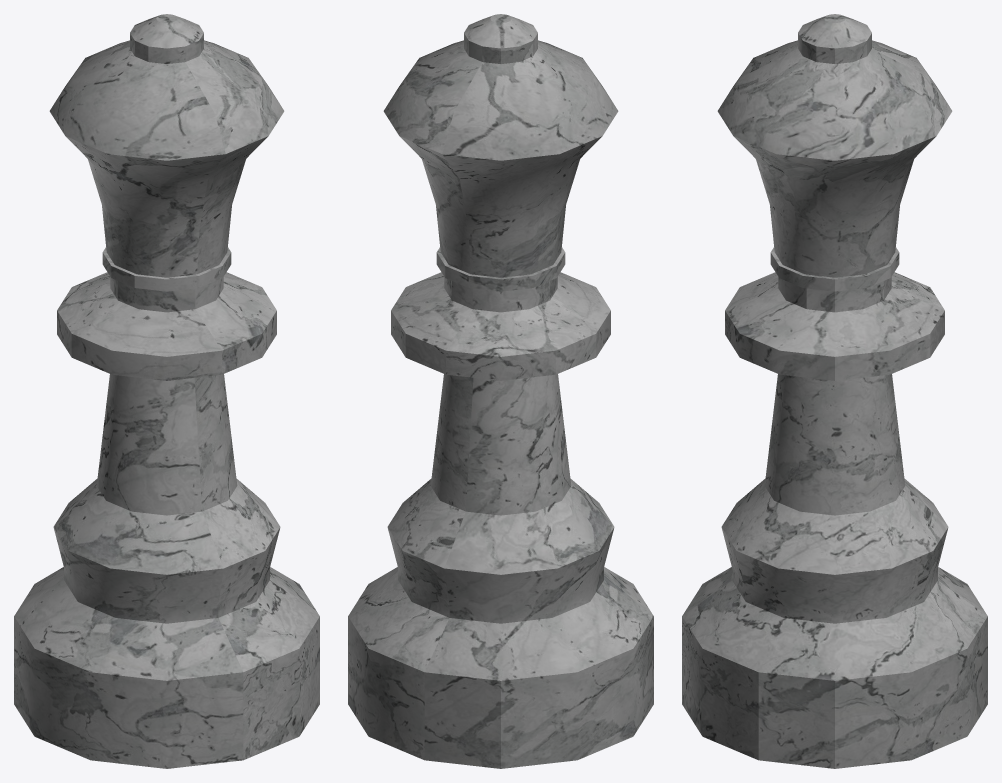
Rendered from queen.glb.
3 renders of one model, left to right at view 1: azimuth 30°, elevation 25°; view 2: azimuth 150°, elevation 25°; view 3: azimuth 270°, elevation 25°, orthographic.
Visible parts, largest first — view 1: Queen; view 2: Queen; view 3: Queen.
Part boxes in pixels (bbox=[...]): Queen: bbox=[14, 14, 319, 768]; Queen: bbox=[348, 14, 653, 768]; Queen: bbox=[682, 14, 987, 768].
Bounding box in the file's own units: 1.31 × 3.24 × 1.31.
Materials: 1 (1 with a texture image).
